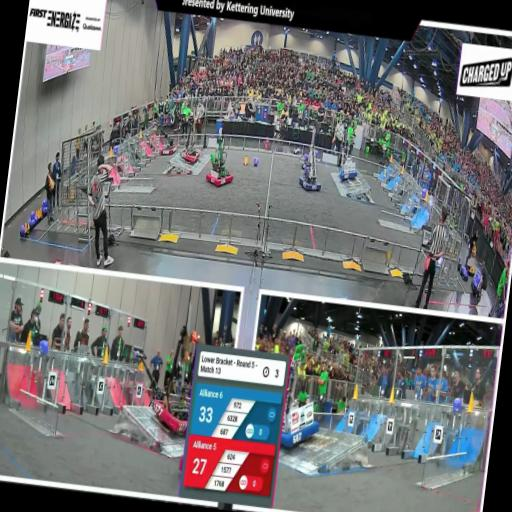robot: (122, 340, 198, 435), (281, 397, 321, 449), (298, 139, 328, 195), (205, 142, 236, 190), (178, 132, 203, 168), (157, 132, 181, 160), (336, 156, 358, 181), (300, 144, 316, 168)
